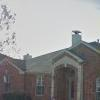Chimney: (63, 24, 85, 46)
